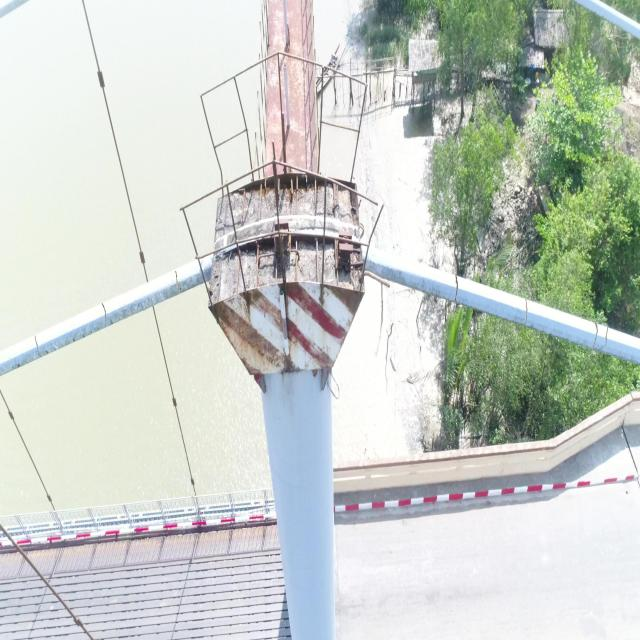crack: (174, 270, 182, 292), (592, 322, 598, 349), (101, 303, 107, 327), (454, 276, 459, 303), (34, 334, 40, 356), (524, 299, 528, 324), (604, 327, 608, 347)
